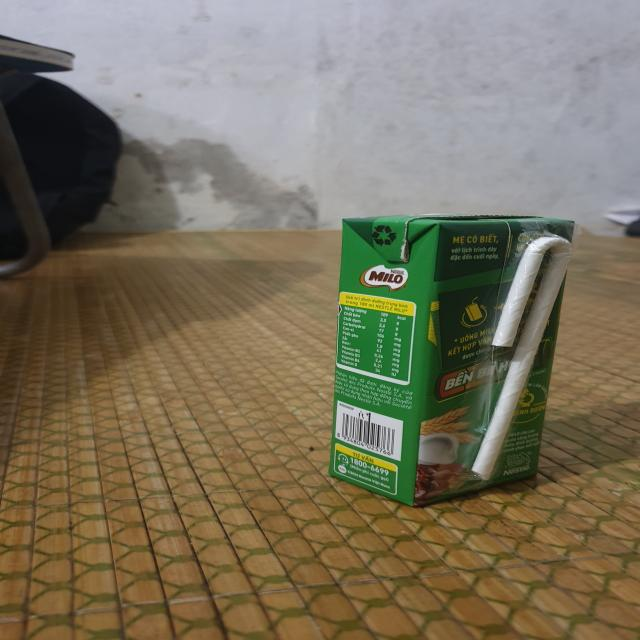Milo: (329, 212, 580, 512)
